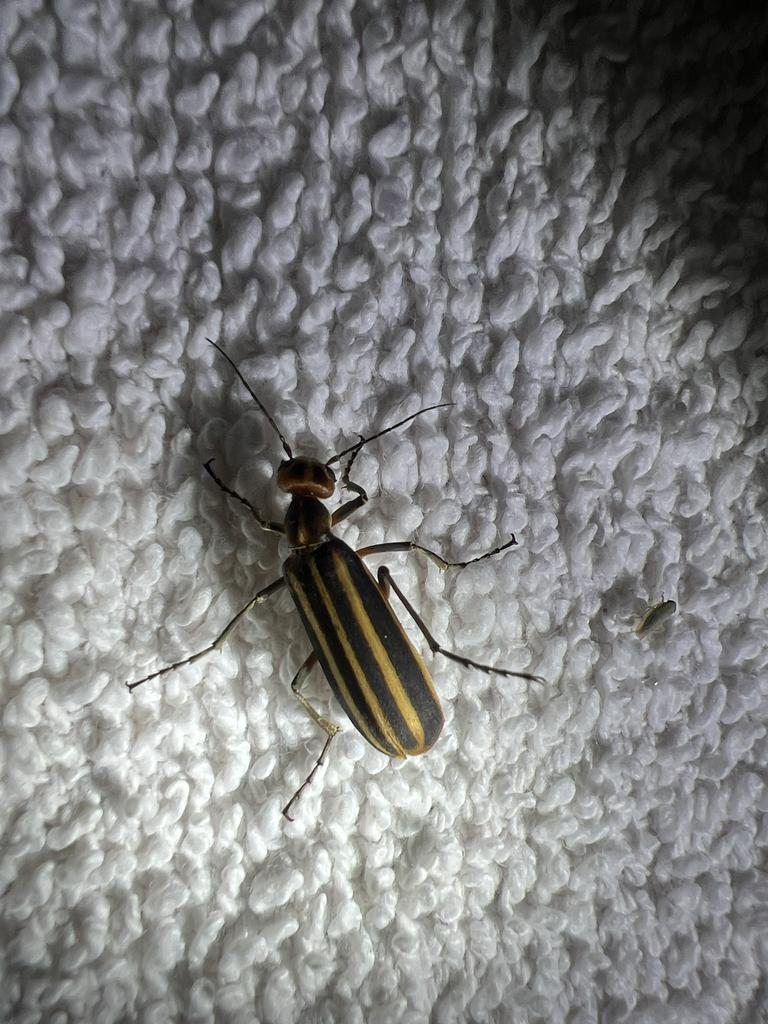blister_beetle: (58, 263, 635, 863)
